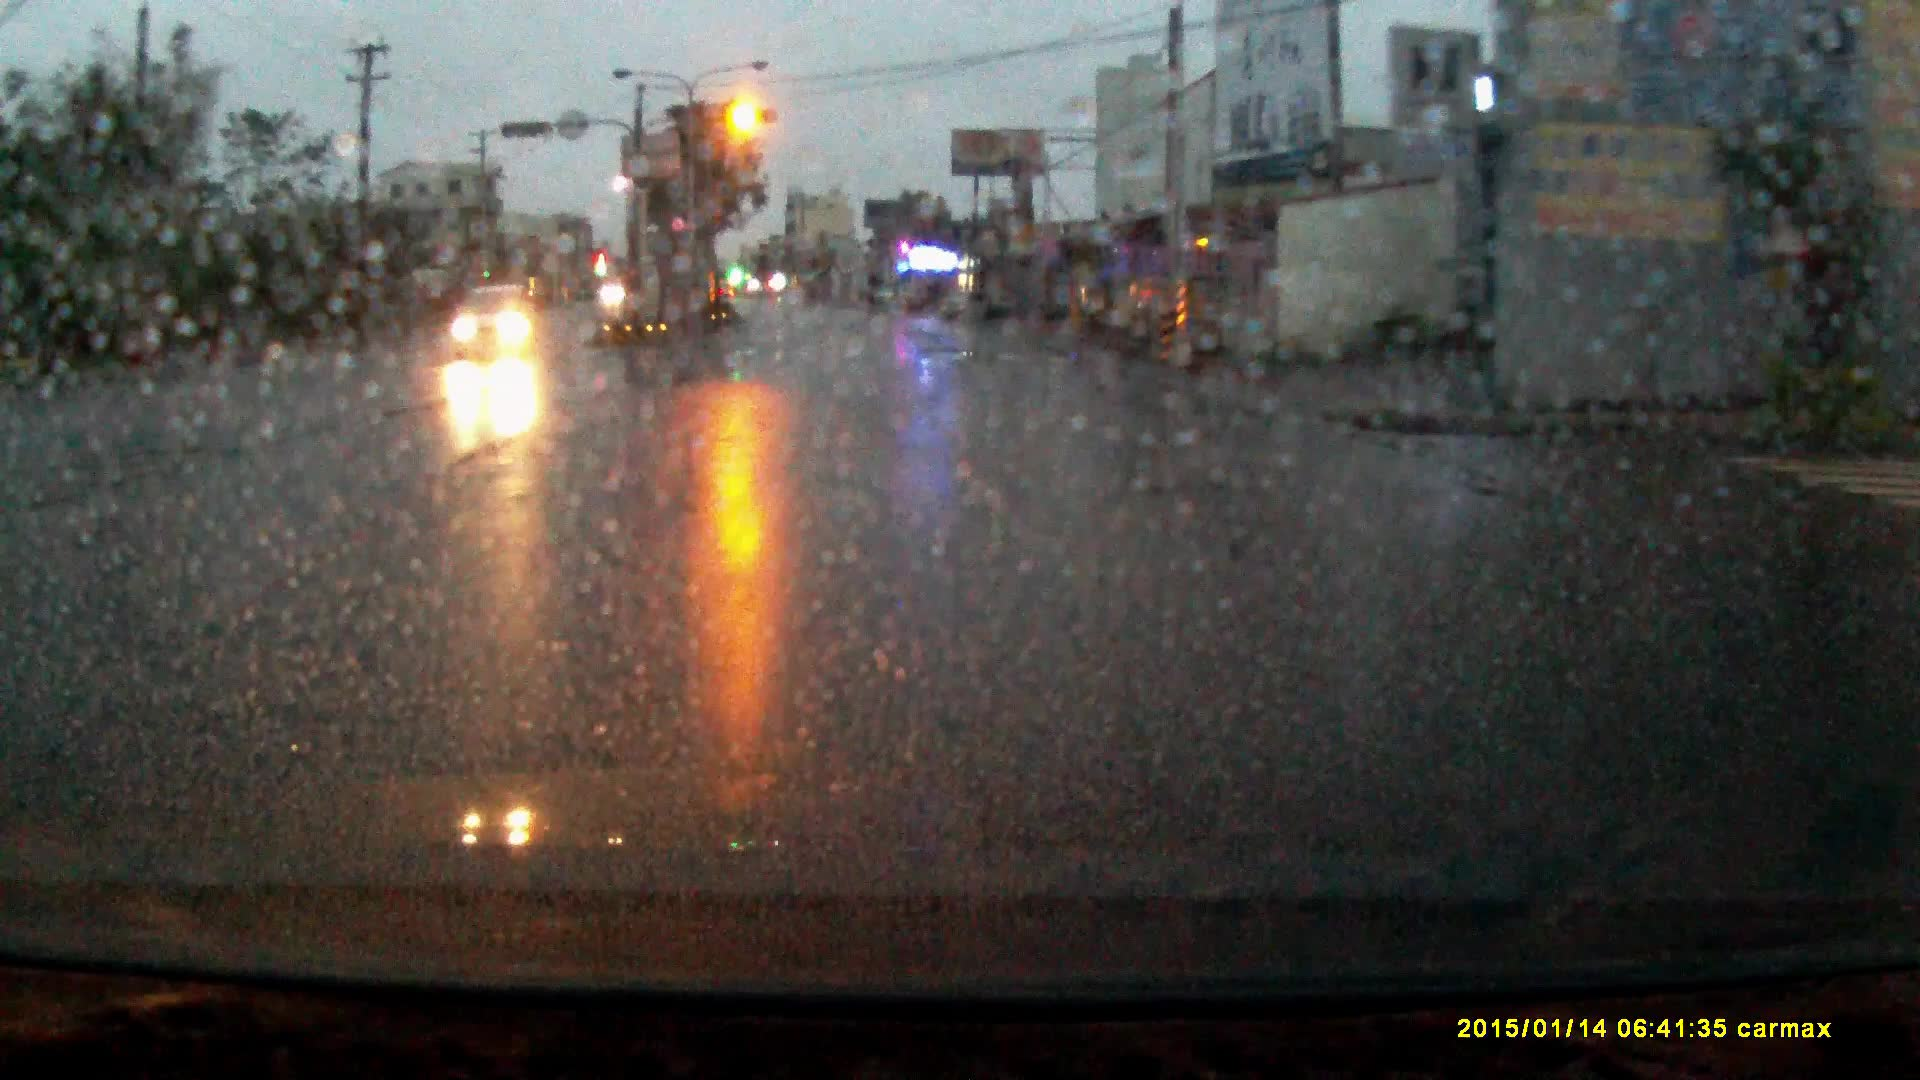vehicle: (451, 287, 543, 364)
